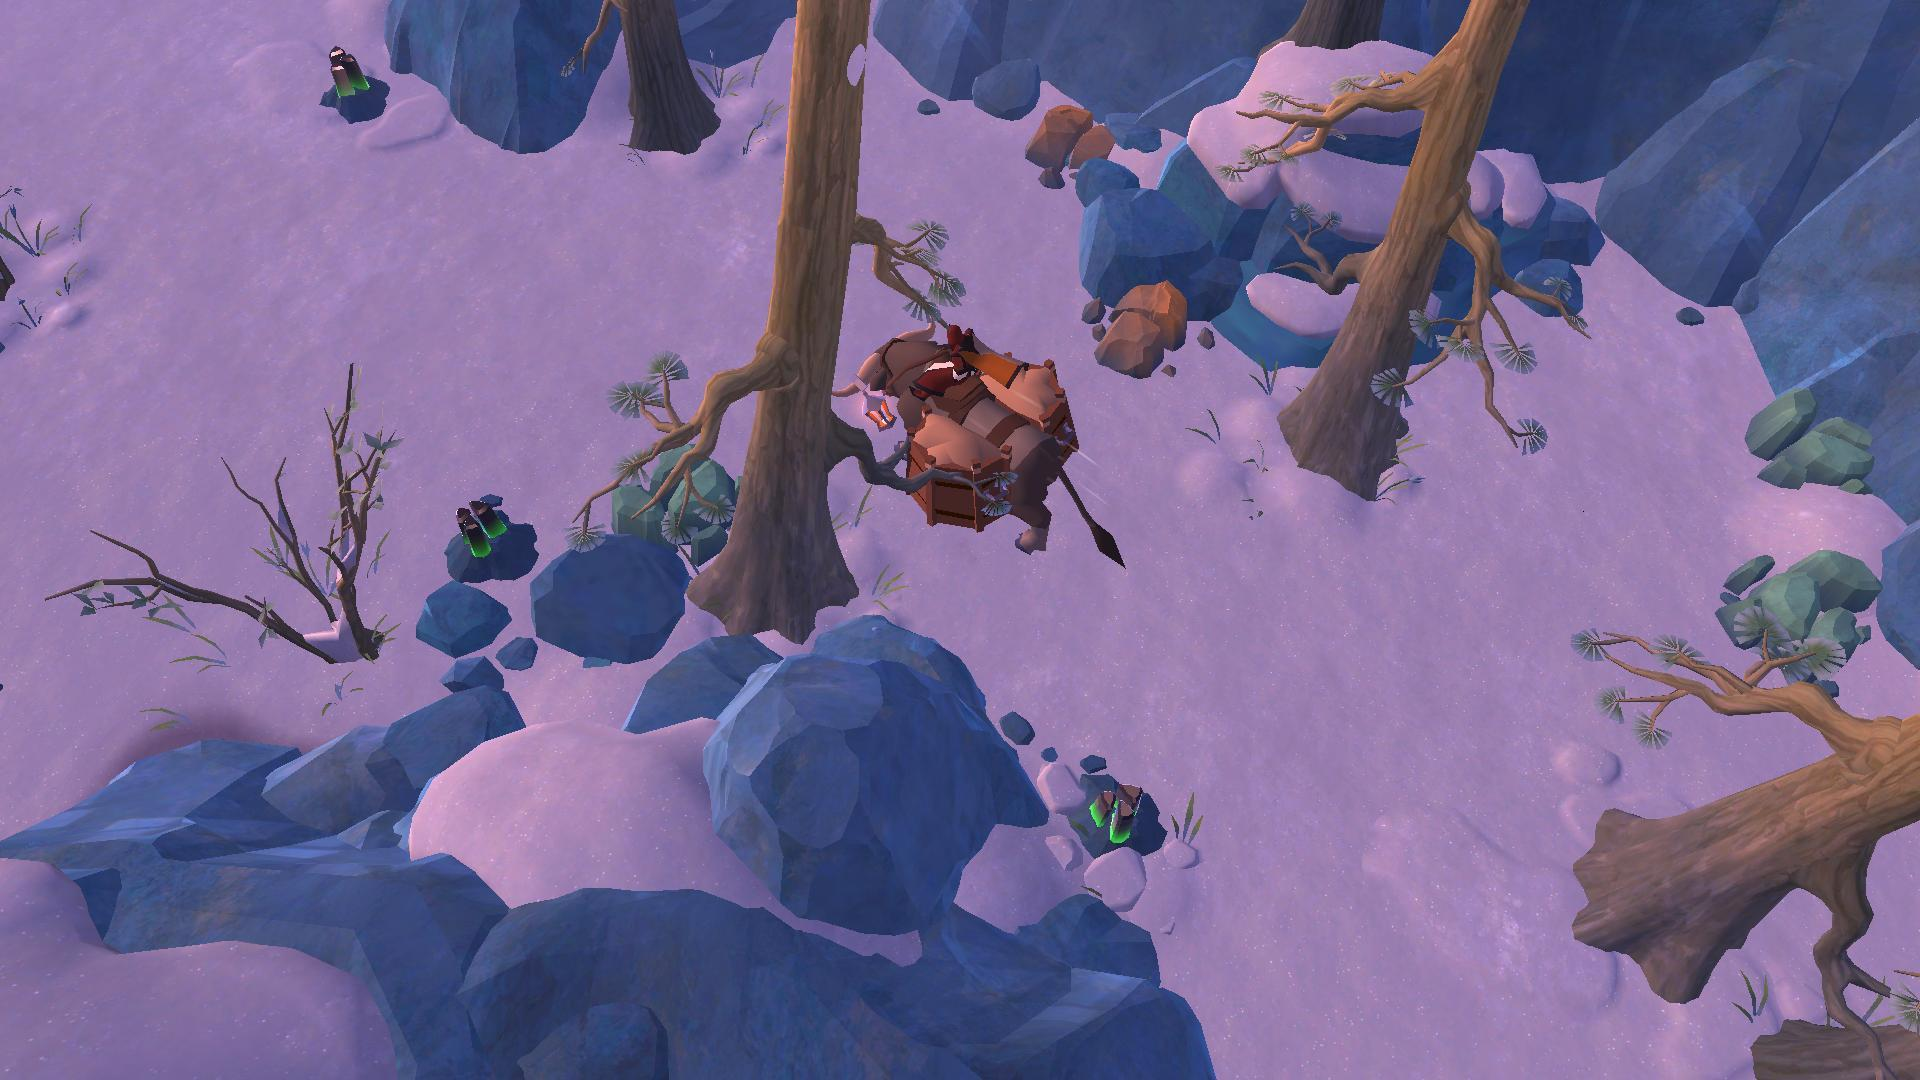ore_t3: (1084, 778, 1147, 849), (444, 496, 508, 563), (323, 42, 371, 107)
rock_t3: (1702, 542, 1879, 684), (608, 431, 745, 553), (1733, 385, 1873, 497)
